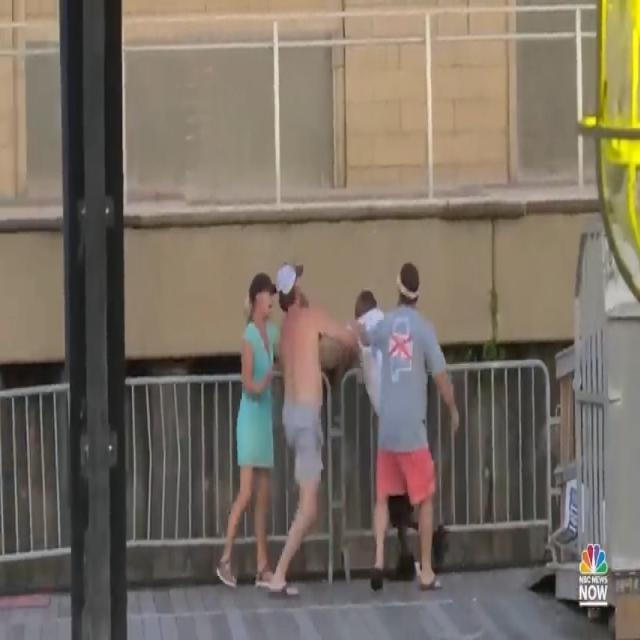fight: (209, 253, 466, 594)
